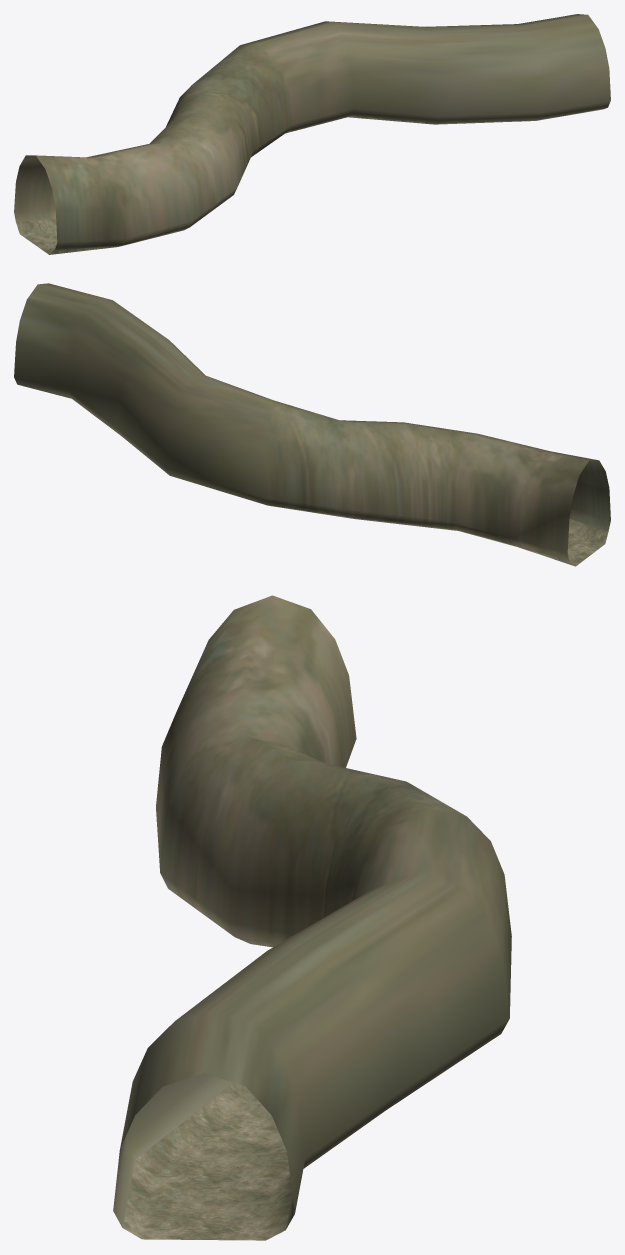
Rendered from OVERHILL_A_01_CM_TUNNEL_02.fbx.
3 views of the same model, one above another, from view 1: azimuth 30°, elevation 25°; view 2: azimuth 150°, elevation 25°; view 3: azimuth 270°, elevation 25° (orthographic). The views are drawn at different scales.
Parts seen in each view (by area): view 1: OVERHILL_A_01_CM_TUNNEL_02; view 2: OVERHILL_A_01_CM_TUNNEL_02; view 3: OVERHILL_A_01_CM_TUNNEL_02.
Part boxes in pixels (left/top/right/bottom): OVERHILL_A_01_CM_TUNNEL_02: left=14, top=14, right=610, bottom=254; OVERHILL_A_01_CM_TUNNEL_02: left=14, top=283, right=610, bottom=566; OVERHILL_A_01_CM_TUNNEL_02: left=113, top=595, right=511, bottom=1240.
Bounding box in the file's own units: 208263 × 43135 × 66939.
Materials: 1 (1 with a texture image).
